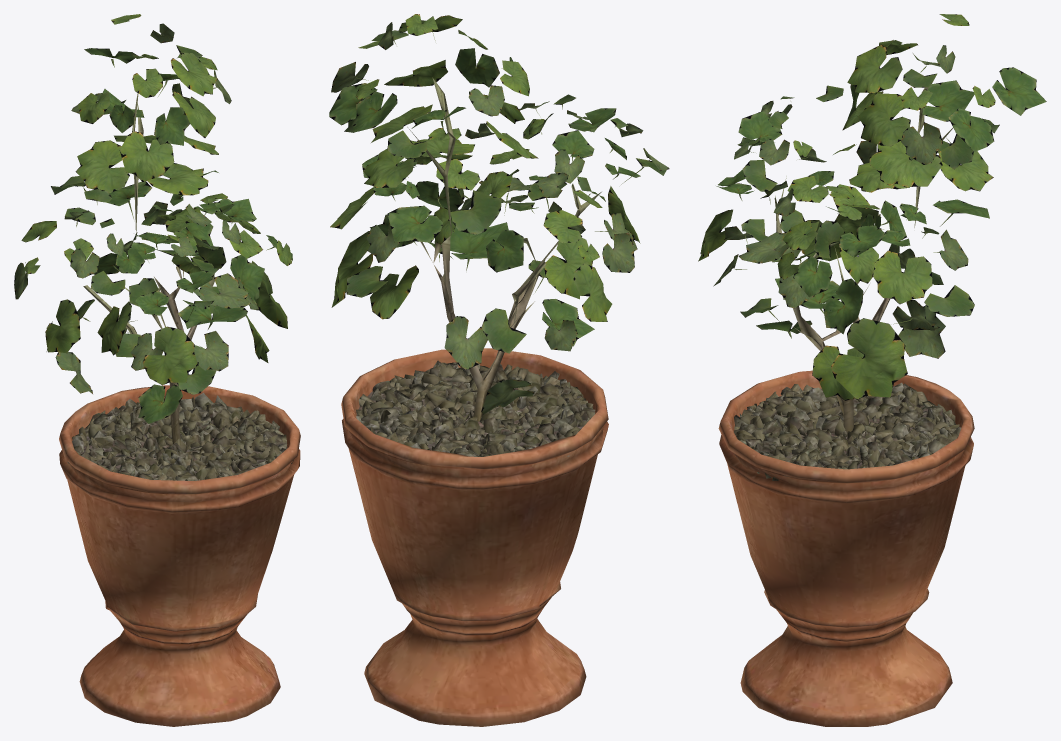
The model's file is potted_plant_01.cd67a25c.glb.
3 views of the same model, side by side, from view 1: azimuth 30°, elevation 25°; view 2: azimuth 150°, elevation 25°; view 3: azimuth 270°, elevation 25° (orthographic). The views are drawn at different scales.
Visible parts, largest first — view 1: potted_plant_01_pot, potted_plant_01_leaves, potted_plant_01_pebbles, potted_plant_01_stem; view 2: potted_plant_01_pot, potted_plant_01_leaves, potted_plant_01_pebbles, potted_plant_01_stem; view 3: potted_plant_01_pot, potted_plant_01_leaves, potted_plant_01_pebbles, potted_plant_01_stem.
Part boxes in pixels (x1,y1,x2,y2): potted_plant_01_pot: (59,385,300,726); potted_plant_01_leaves: (14,14,292,423); potted_plant_01_pebbles: (67,393,293,480); potted_plant_01_stem: (83,93,214,443); potted_plant_01_pot: (341,348,608,726); potted_plant_01_leaves: (329,14,669,414); potted_plant_01_pebbles: (356,360,595,464); potted_plant_01_stem: (407,77,601,421); potted_plant_01_pot: (718,370,974,726); potted_plant_01_leaves: (698,14,1046,400); potted_plant_01_pebbles: (734,382,961,480); potted_plant_01_stem: (774,87,953,433).
Size of the model in its own units: 0.4395 by 1 by 0.4746.
Materials: 2 (2 with a texture image).
